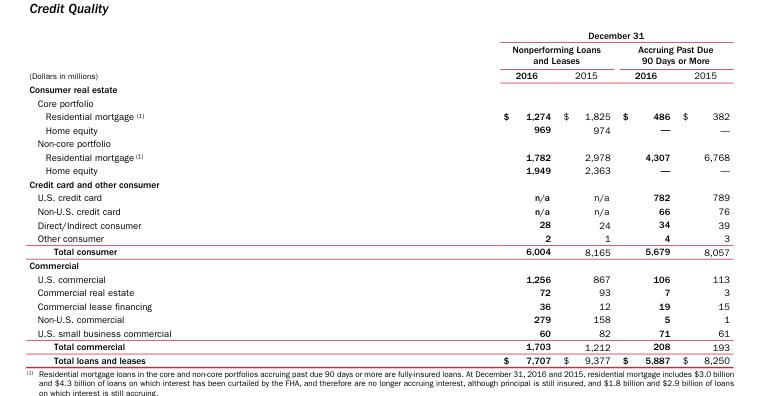table: (28, 28, 728, 365)
table column: (28, 28, 336, 365), (336, 28, 556, 365), (615, 28, 675, 365), (556, 28, 615, 365), (675, 28, 728, 365)
table column header: (28, 28, 728, 81)
table projected row header: (28, 81, 728, 95), (28, 176, 728, 190), (28, 95, 728, 108), (28, 136, 728, 149), (28, 258, 728, 271)
table row: (28, 41, 728, 67), (28, 67, 728, 81), (28, 81, 728, 95), (28, 108, 728, 122), (28, 122, 728, 136), (28, 149, 728, 163), (28, 176, 728, 190), (28, 203, 728, 217), (28, 230, 728, 244), (28, 244, 728, 258), (28, 271, 728, 285), (28, 298, 728, 312), (28, 325, 728, 339), (28, 28, 728, 41), (28, 95, 728, 108), (28, 136, 728, 149), (28, 163, 728, 176), (28, 190, 728, 203), (28, 217, 728, 230), (28, 258, 728, 271), (28, 285, 728, 298), (28, 312, 728, 325), (28, 339, 728, 352), (28, 352, 728, 365)
table spanning cell: (28, 28, 336, 81), (336, 41, 615, 67), (336, 28, 728, 41), (615, 41, 728, 67)
